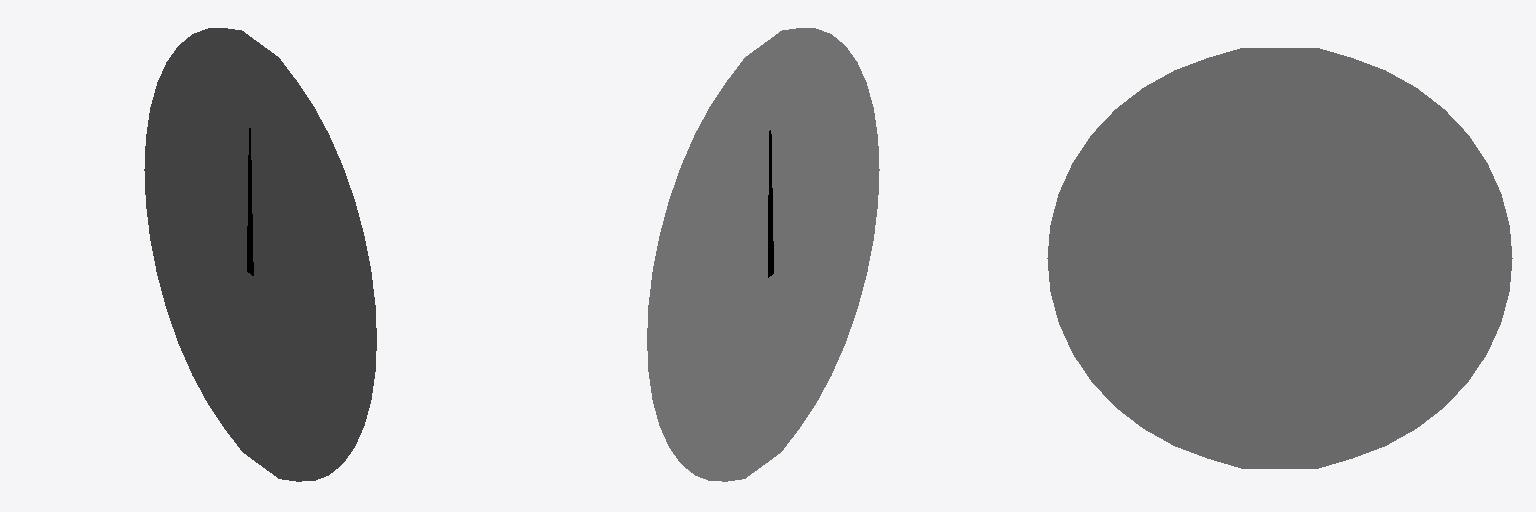
The model's file is Clock_Hands.obj.
The picture shows the model from 3 angles: view 1: azimuth 30°, elevation 25°; view 2: azimuth 150°, elevation 25°; view 3: azimuth 270°, elevation 25°; orthographic projection.
Visible parts, largest first — view 1: Circle.000, Cube.002; view 2: Circle.000, Cube.002; view 3: Circle.000.
Boxes of the visible parts, x1,y1,x2,y2 form: Circle.000: [144, 28, 376, 481]; Cube.002: [247, 128, 253, 275]; Circle.000: [647, 28, 879, 481]; Cube.002: [768, 130, 773, 277]; Circle.000: [1047, 48, 1512, 468].
Bounding box in the file's own units: 0.0192 × 0.8163 × 0.8163.